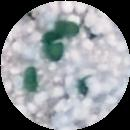Basil: (39, 30, 65, 63), (24, 65, 40, 97), (48, 19, 79, 34)
